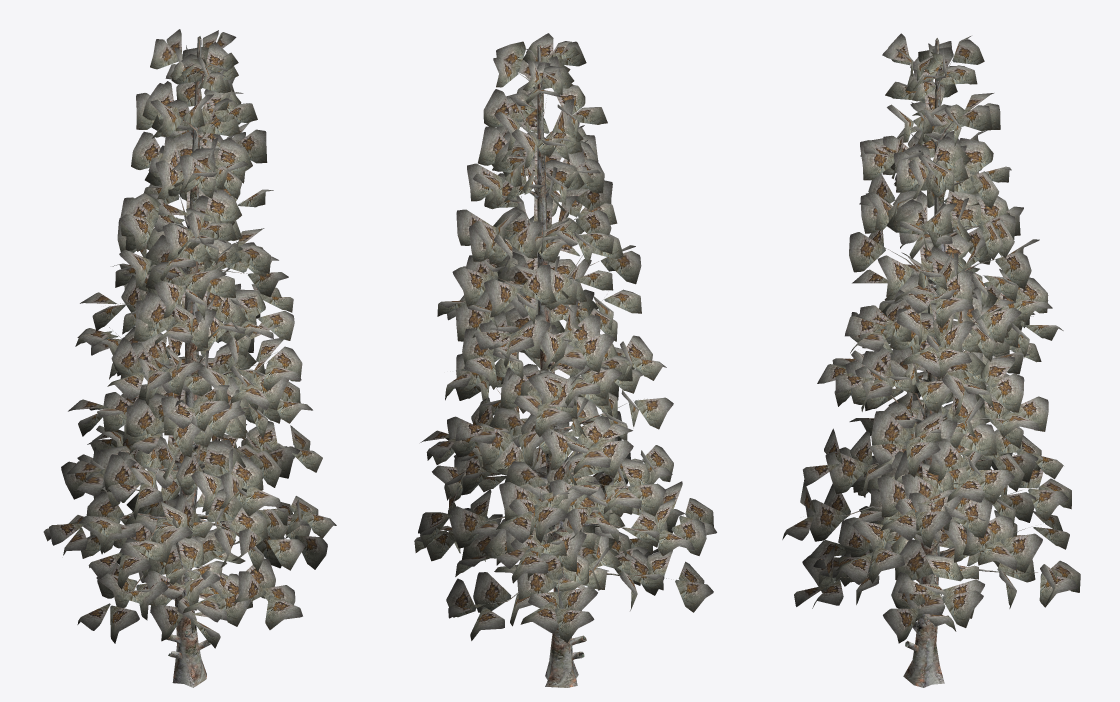
File: defaultbluesprucetree.glb
3 renders of one model, left to right at view 1: azimuth 30°, elevation 25°; view 2: azimuth 150°, elevation 25°; view 3: azimuth 270°, elevation 25°, orthographic. The views are drawn at different scales.
Parts seen in each view (by area): view 1: DefaultBlueSpruceTree; view 2: DefaultBlueSpruceTree; view 3: DefaultBlueSpruceTree.
Boxes of the visible parts, <box> form: DefaultBlueSpruceTree: <box>43,29,336,687</box>; DefaultBlueSpruceTree: <box>414,33,716,687</box>; DefaultBlueSpruceTree: <box>782,33,1080,687</box>.
Size of the model in its own units: 9.57 by 19.89 by 9.16.
4 materials, 4 textured.
